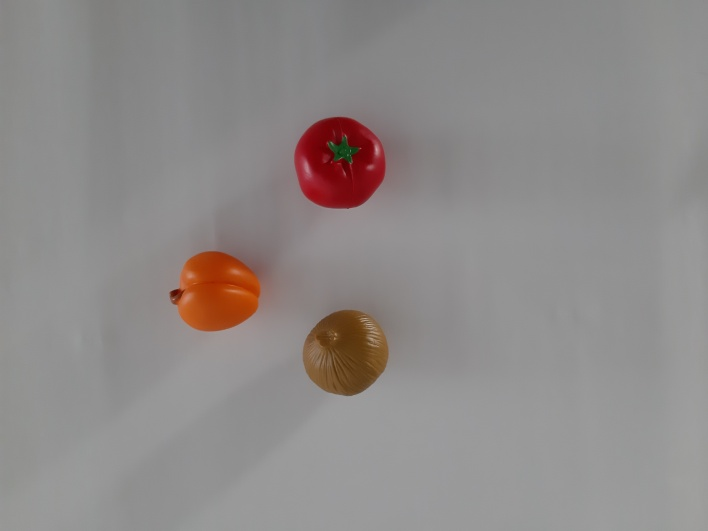apricot: (156, 236, 277, 357)
onion: (294, 293, 409, 417)
tomato: (282, 102, 405, 225)
